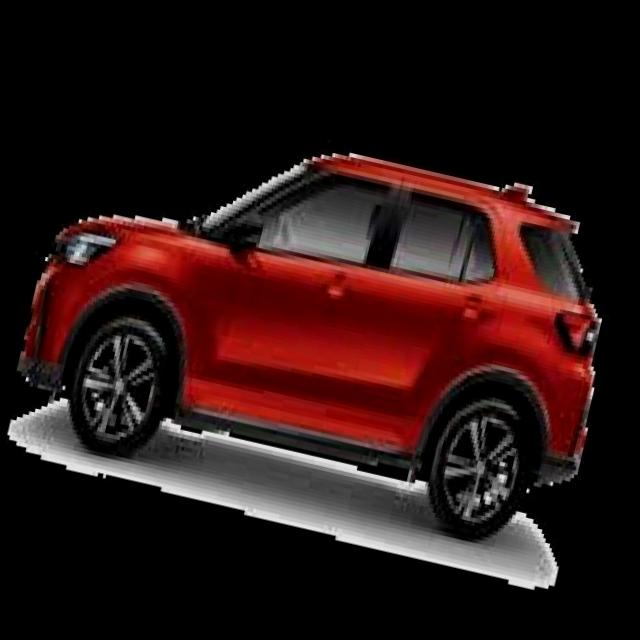PeroduaAtiva: (0, 79, 640, 563)
